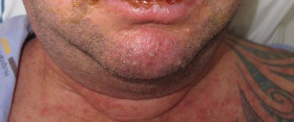SJS-TEN: (2, 0, 294, 122)
